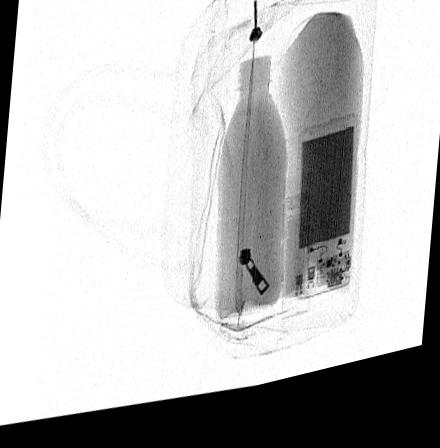Powerbank: (292, 129, 357, 317)
